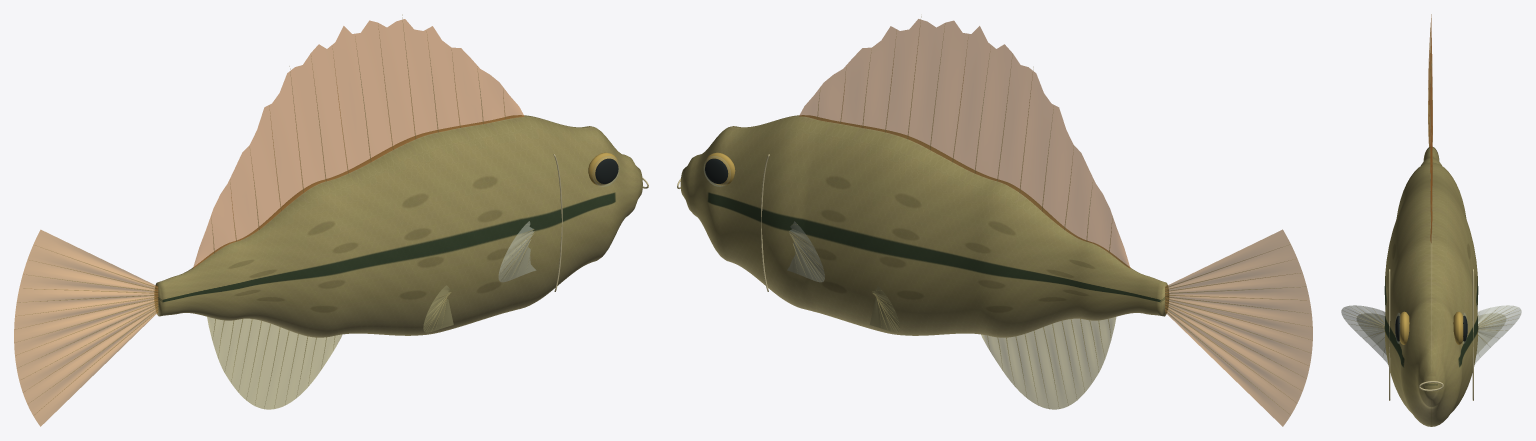
File: apisto-desktop.glb
3 renders of one model, left to right at view 1: azimuth 30°, elevation 25°; view 2: azimuth 150°, elevation 25°; view 3: azimuth 270°, elevation 25°, orthographic. The views are drawn at different scales.
Parts seen in each view (by area): view 1: skin, dorsal, tail, anal, dorsal-ray, pectoral-left, pelvic-left; view 2: skin, dorsal, tail, anal, dorsal-ray, pectoral-left, pelvic-left; view 3: skin, pectoral-left, pelvic-left, dorsal-ray, eye-iris--1, operculum, dorsal, tail, eye-pupil--1.
Part boxes in pixels (box(x1,y1,x2,y2)): skin: box(154, 115, 642, 337); dorsal: box(193, 19, 524, 268); tail: box(14, 230, 158, 426); anal: box(207, 317, 341, 409); dorsal-ray: box(15, 14, 534, 410); pectoral-left: box(498, 221, 535, 282); pelvic-left: box(423, 285, 453, 332); skin: box(680, 115, 1168, 337); dorsal: box(799, 19, 1130, 268); tail: box(1165, 229, 1312, 426); anal: box(981, 317, 1116, 409); dorsal-ray: box(789, 16, 1312, 414); pectoral-left: box(787, 221, 824, 282); pelvic-left: box(870, 286, 899, 332); skin: box(1384, 147, 1478, 426); pectoral-left: box(1341, 305, 1521, 364); pelvic-left: box(1357, 313, 1505, 354); dorsal-ray: box(1345, 32, 1519, 354); eye-iris--1: box(1399, 311, 1463, 344); operculum: box(1389, 269, 1473, 400); dorsal: box(1430, 31, 1432, 242); tail: box(1428, 14, 1432, 146); eye-pupil--1: box(1395, 315, 1467, 341).
Size of the model in its own units: 0.6212 by 0.3453 by 0.1621.
11 materials, 1 textured.
